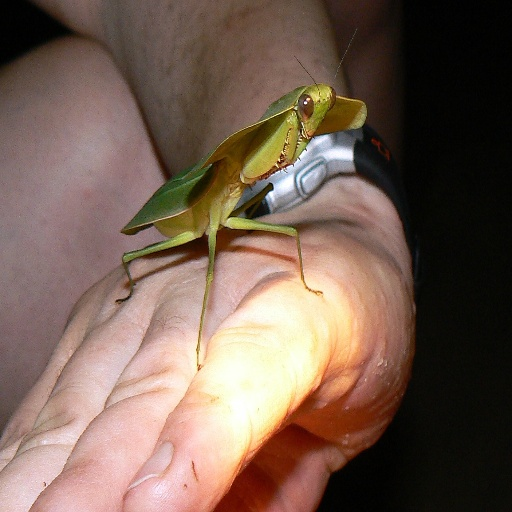hand: (0, 175, 415, 510)
